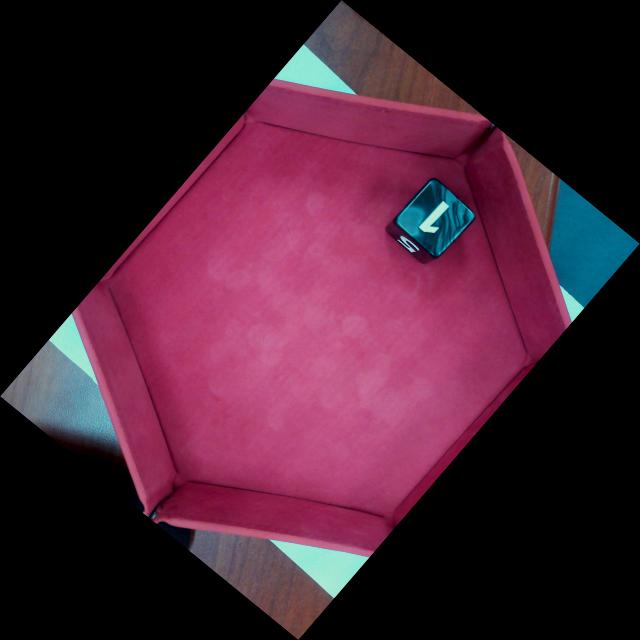dice: (392, 176, 478, 259)
